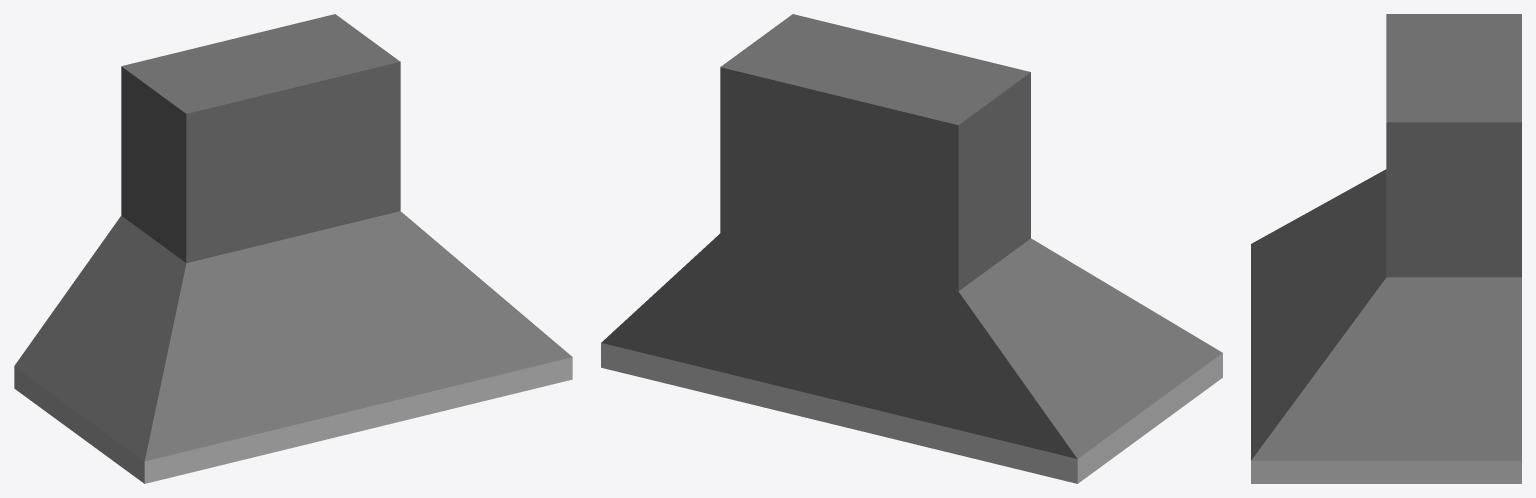
File: hood.fbx
3 views of the same model, side by side, from view 1: azimuth 30°, elevation 25°; view 2: azimuth 150°, elevation 25°; view 3: azimuth 270°, elevation 25° (orthographic). The views are drawn at different scales.
Visible parts, largest first — view 1: kitchen_hood; view 2: kitchen_hood; view 3: kitchen_hood.
Boxes of the visible parts, x1,y1,x2,y2 form: kitchen_hood: [14, 14, 572, 483]; kitchen_hood: [601, 14, 1222, 483]; kitchen_hood: [1251, 14, 1521, 483].
Size of the model in its own units: 95 by 180 by 119.
Materials: 2 (1 with a texture image).
